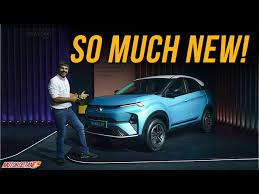Tata Nexon: (83, 75, 215, 153)
